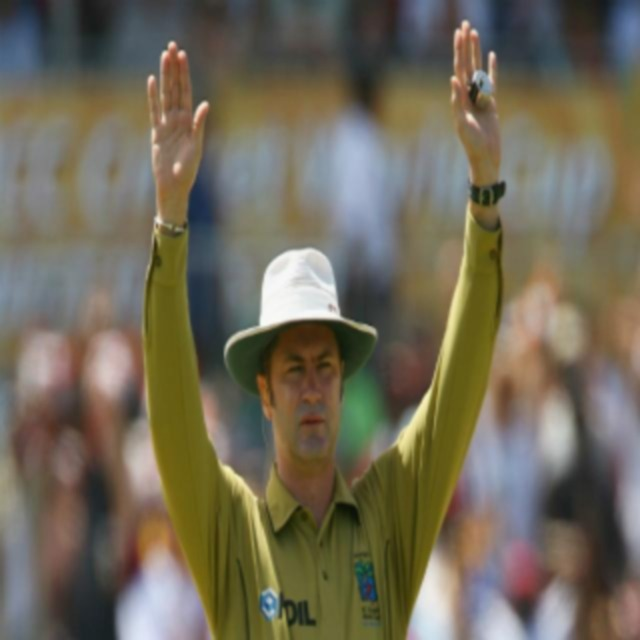Six: (131, 14, 513, 640)
